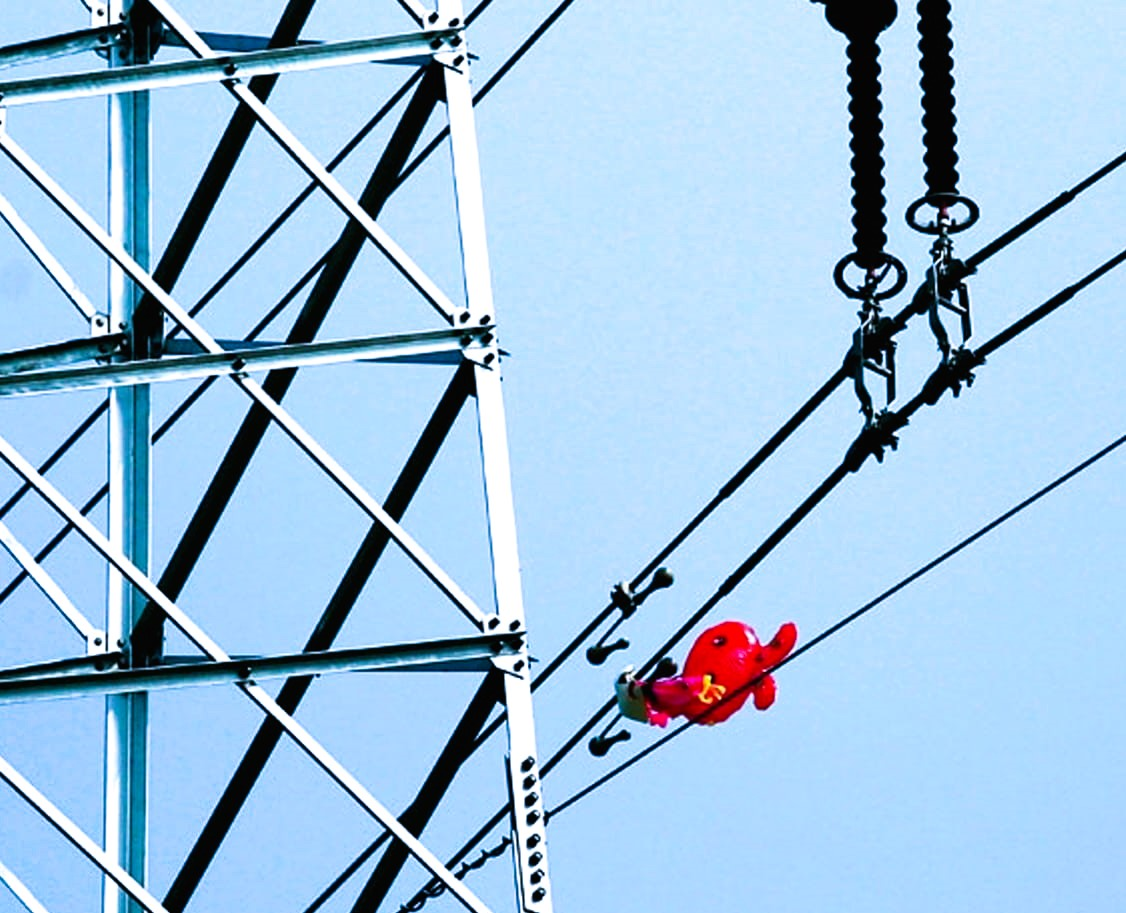wire foreign body: (597, 612, 809, 742)
